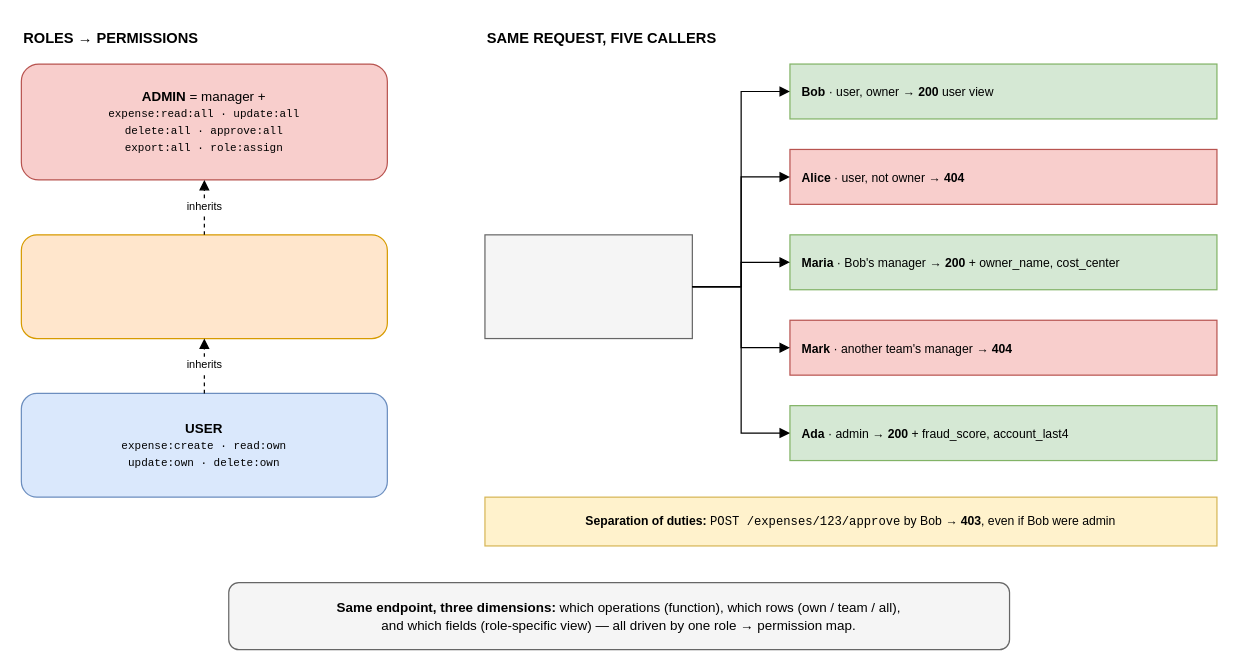
The diagram is 1238 pixels wide and 671 high, and some of its shapes have lost their labels. The centre of each missing label's shape, as x and y in pixels:
"GET /expenses/123 owner: Bob Bob's manager: Maria" goes at point 588,286.
"MANAGER = user + expense:read:team approve:team · export:team" goes at point 203,286.
